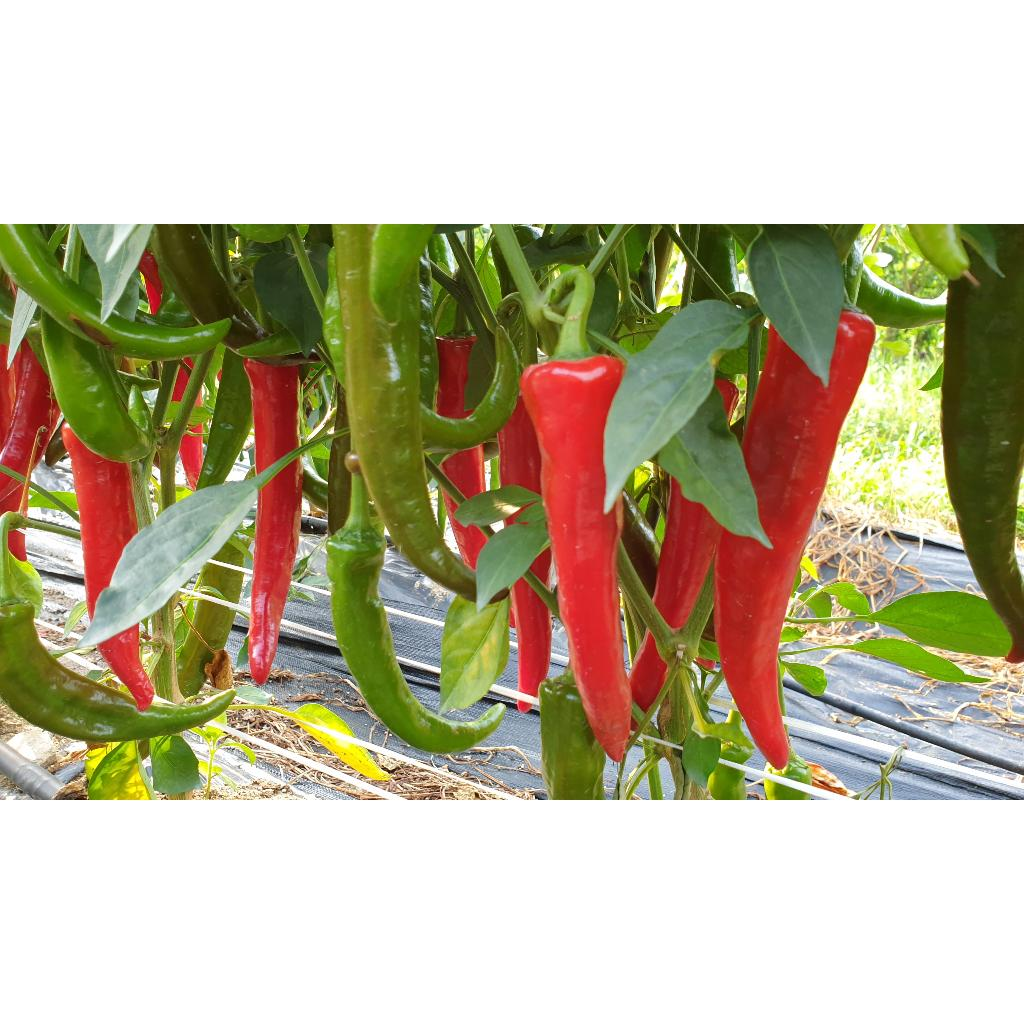chili: (714, 310, 876, 770), (520, 356, 632, 760), (62, 424, 138, 617), (248, 460, 302, 684), (654, 478, 722, 628), (0, 340, 60, 476), (244, 360, 300, 474), (510, 580, 552, 696), (98, 626, 154, 709), (498, 398, 542, 494), (436, 336, 476, 420), (444, 494, 486, 568), (630, 634, 666, 710), (440, 446, 486, 498), (0, 472, 24, 513), (532, 550, 552, 586), (8, 530, 26, 560)
